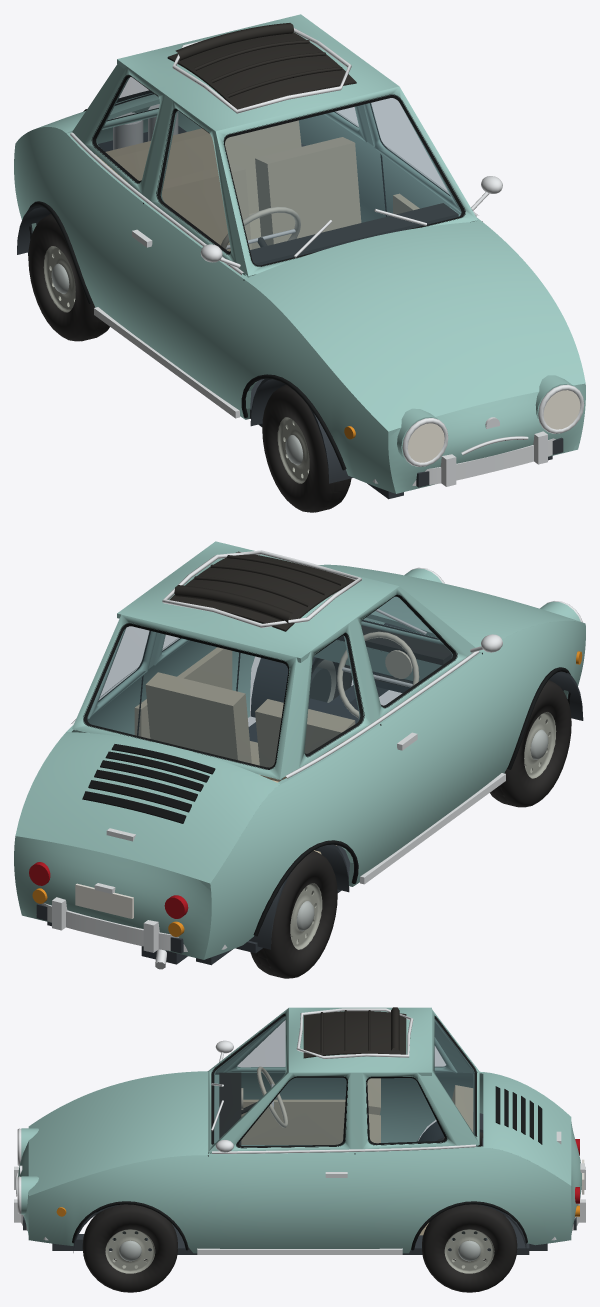
Rendered from pipit.glb.
The picture shows the model from 3 angles, top to bottom: view 1: azimuth 30°, elevation 25°; view 2: azimuth 150°, elevation 25°; view 3: azimuth 270°, elevation 25°; orthographic projection. The views are drawn at different scales.
Visible parts, largest first — view 1: panel_hoodPipit, glass_FrontPipit, panel_BodyDoorLPipit, panel_RearQuarterLPipit, panel_FrontWingLPipit, Interior Pipit SeatBack1, panel_RoofPipit, panel_PipitSunroof, panel_PipitNose, Interior Pipit RearBack, glass_BodyDoorLPipit, Tire_Marten_Carcass_FL (+33 smaller); view 2: panel_EngineLidPipit, panel_RearQuarterLPipit, glass_RearPipit, panel_BodyDoorLPipit, panel_PipitTail, panel_RoofPipit, Interior Pipit SeatBack1, panel_hoodPipit, panel_FrontWingLPipit, panel_PipitSunroof, glass_BodyDoorLPipit, Tire_Marten_Carcass_RL (+42 smaller); view 3: panel_RearQuarterRPipit, panel_hoodPipit, panel_BodyDoorRPipit, panel_FrontWingRPipit, panel_EngineLidPipit, glass_BodyDoorRPipit, Tire_Marten_Carcass_FR, Tire_Marten_Carcass_RR, glass_FrontPipit, panel_RoofPipit, glass_QuarterRPipit, panel_BodyDoorLPipitInnerCard (+35 smaller).
Boxes of the visible parts, <box> form: panel_hoodPipit: <box>244,221,585,435</box>; glass_FrontPipit: <box>225,98,461,264</box>; panel_BodyDoorLPipit: <box>121,202,247,404</box>; panel_RearQuarterLPipit: <box>14,127,145,330</box>; panel_FrontWingLPipit: <box>223,280,395,493</box>; Interior Pipit SeatBack1: <box>255,137,361,245</box>; panel_RoofPipit: <box>117,14,399,131</box>; panel_PipitSunroof: <box>167,32,356,109</box>; panel_PipitNose: <box>388,383,585,493</box>; Interior Pipit RearBack: <box>95,120,301,213</box>; glass_BodyDoorLPipit: <box>161,111,230,251</box>; Tire_Marten_Carcass_FL: <box>262,385,351,512</box>; panel_EngineLidPipit: <box>15,732,280,887</box>; panel_RearQuarterLPipit: <box>204,724,402,959</box>; glass_RearPipit: <box>87,626,287,767</box>; panel_BodyDoorLPipit: <box>378,652,502,852</box>; panel_PipitTail: <box>14,836,211,959</box>; panel_RoofPipit: <box>117,541,399,662</box>; Interior Pipit SeatBack1: <box>145,672,251,763</box>; panel_hoodPipit: <box>319,564,582,652</box>; panel_FrontWingLPipit: <box>482,620,585,777</box>; panel_PipitSunroof: <box>169,551,355,631</box>; glass_BodyDoorLPipit: <box>361,597,452,705</box>; Tire_Marten_Carcass_RL: <box>250,851,337,978</box>; panel_RearQuarterRPipit: <box>355,1146,571,1253</box>; panel_hoodPipit: <box>28,1071,208,1195</box>; panel_BodyDoorRPipit: <box>208,1152,354,1248</box>; panel_FrontWingRPipit: <box>28,1155,208,1253</box>; panel_EngineLidPipit: <box>483,1072,571,1185</box>; glass_BodyDoorRPipit: <box>239,1078,346,1145</box>; Tire_Marten_Carcass_FR: <box>82,1204,177,1292</box>; Tire_Marten_Carcass_RR: <box>422,1204,517,1292</box>; glass_FrontPipit: <box>214,1016,285,1143</box>; panel_RoofPipit: <box>289,1007,431,1075</box>; glass_QuarterRPipit: <box>367,1078,444,1142</box>; panel_BodyDoorLPipitInnerCard: <box>241,1099,345,1144</box>.
Size of the model in its own units: 1.36 by 1.37 by 3.12.
